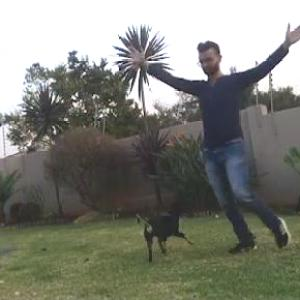takeoff: (148, 22, 299, 235)
